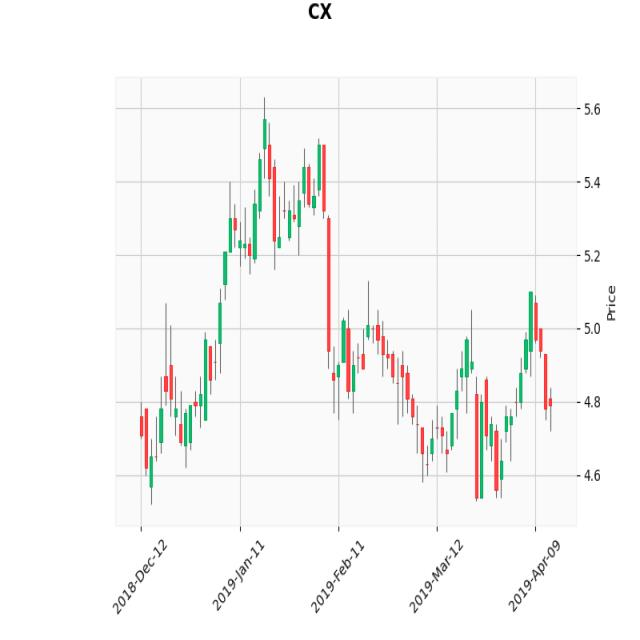Head-Shoulders: (132, 91, 437, 477), (211, 102, 336, 317)
